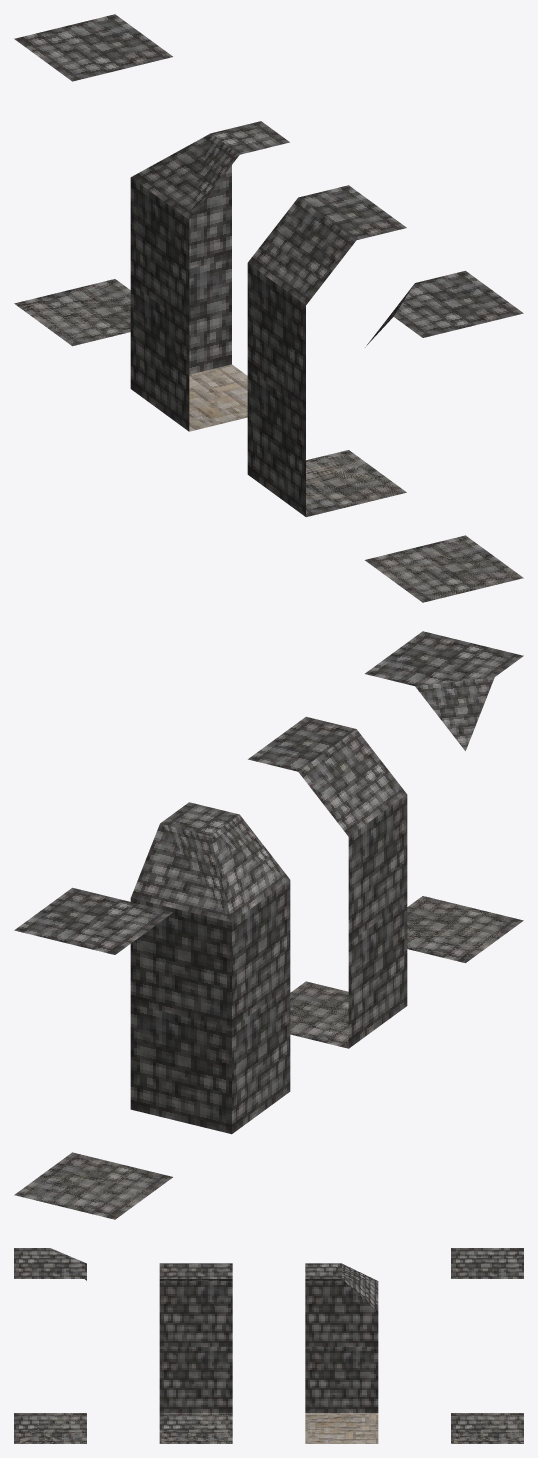
3 views of the same model, one above another, from view 1: azimuth 30°, elevation 25°; view 2: azimuth 150°, elevation 25°; view 3: azimuth 270°, elevation 25° (orthographic). The views are drawn at different scales.
Parts seen in each view (by area): view 1: connerin-col, wall-col, connerout-col, floor-col; view 2: connerin-col, wall-col, connerout-col, floor-col; view 3: wall-col, connerin-col, floor-col, connerout-col.
Part boxes in pixels (box(x1,y1,x2,y2)): connerin-col: box(130, 121, 289, 431); wall-col: box(247, 185, 406, 517); connerout-col: box(365, 270, 523, 602); floor-col: box(14, 14, 172, 346); connerin-col: box(130, 802, 290, 1134); wall-col: box(248, 716, 407, 1048); connerout-col: box(365, 631, 523, 963); floor-col: box(14, 887, 172, 1219); wall-col: box(159, 1263, 232, 1443); connerin-col: box(305, 1263, 378, 1443); floor-col: box(451, 1248, 523, 1443); connerout-col: box(14, 1248, 86, 1443).
Bounding box in the file's own units: 1 × 2.5 × 7.
Materials: 1 (1 with a texture image).
